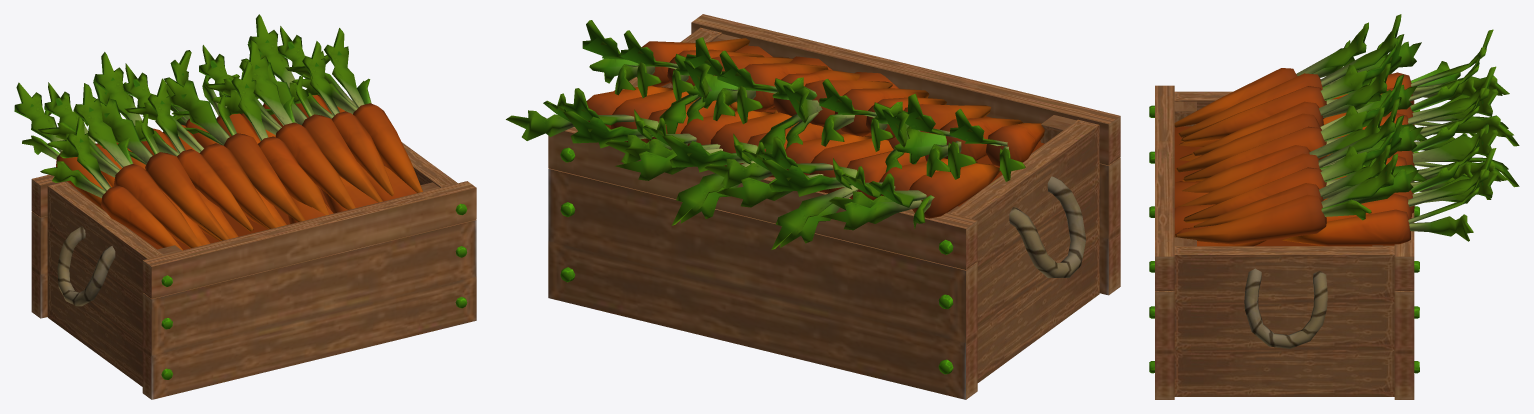
File: FarmCrate_Carrot.gltf
The picture shows the model from 3 angles, left to right: view 1: azimuth 30°, elevation 25°; view 2: azimuth 150°, elevation 25°; view 3: azimuth 270°, elevation 25°; orthographic projection. The views are drawn at different scales.
Visible parts, largest first — view 1: FarmCrate_Carrot; view 2: FarmCrate_Carrot; view 3: FarmCrate_Carrot.
Boxes of the visible parts, <box> form: FarmCrate_Carrot: <box>14,14,476,399</box>; FarmCrate_Carrot: <box>506,14,1120,399</box>; FarmCrate_Carrot: <box>1149,14,1519,399</box>.
Size of the model in its own units: 0.7138 by 0.4113 by 0.567.
3 materials, 3 textured.
